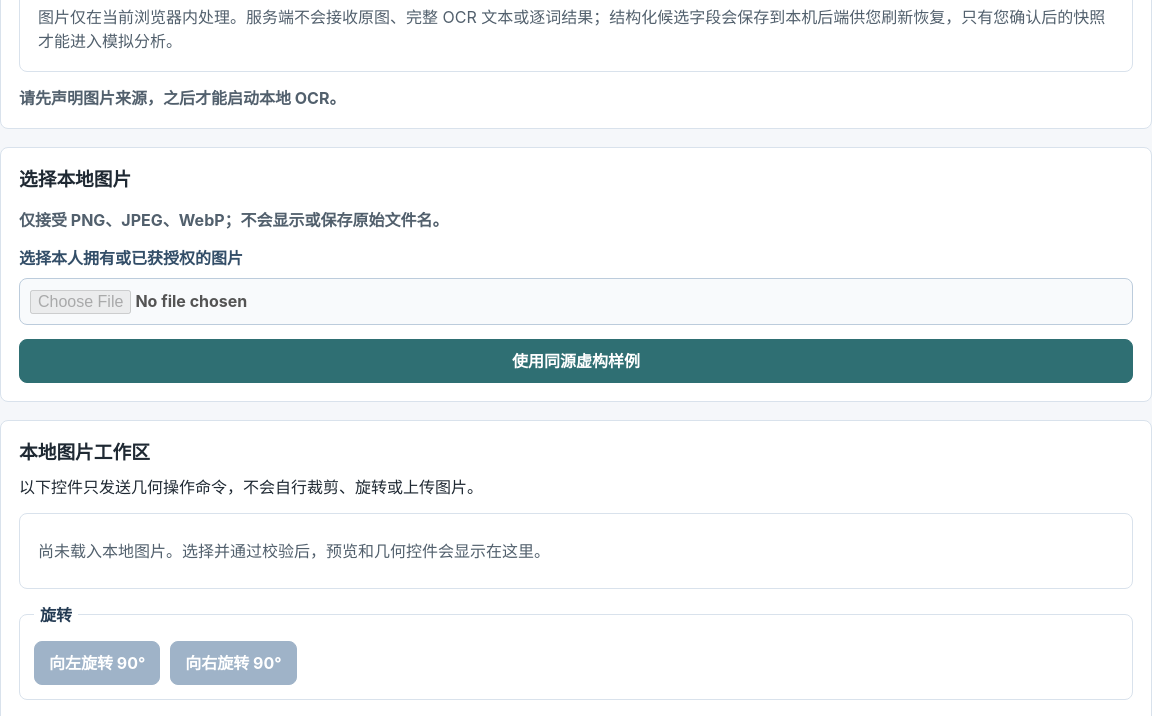
ScreenshotUpload › fetches the fictional fixture only as a same-origin GET and uses the local pipeline
(page scrolled)
Click the button with test id "fictional-sample" at (576, 361), box [19, 339, 1133, 383]
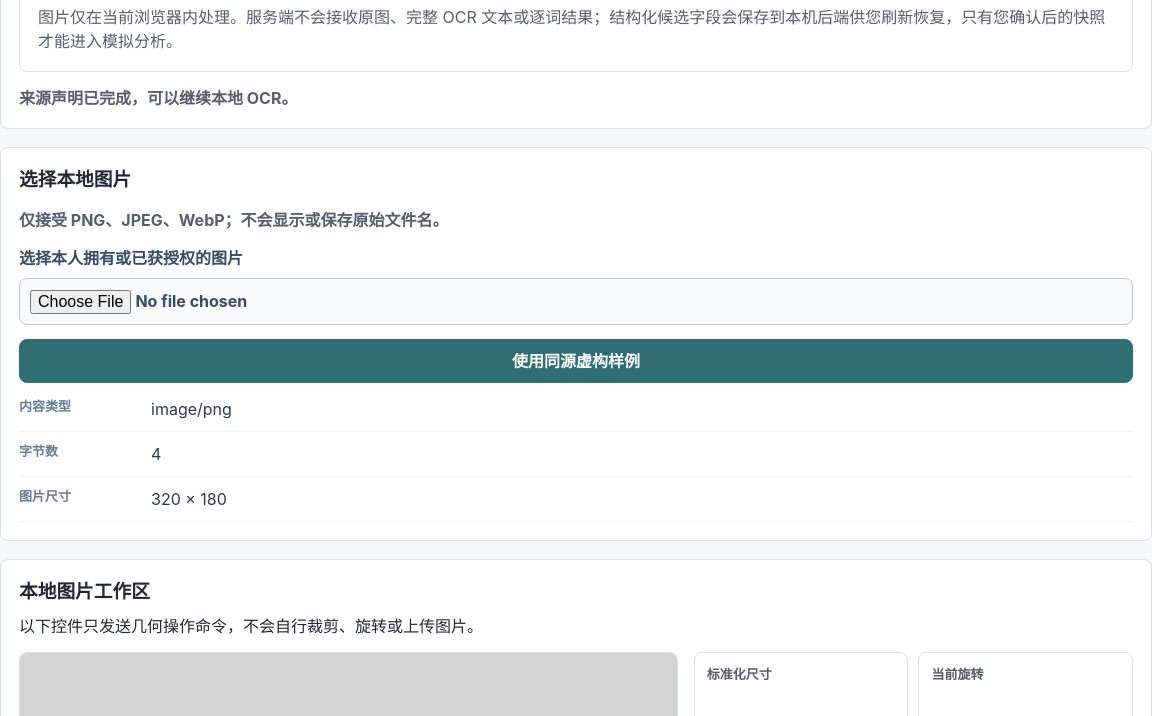
Check: the text "image/png" is shown, box [151, 399, 232, 419]
